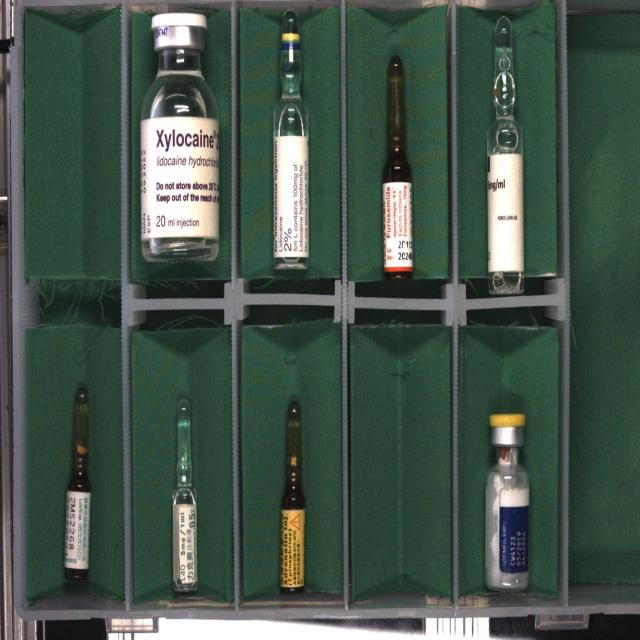Vials: (140, 12, 220, 261), (485, 413, 529, 591)
